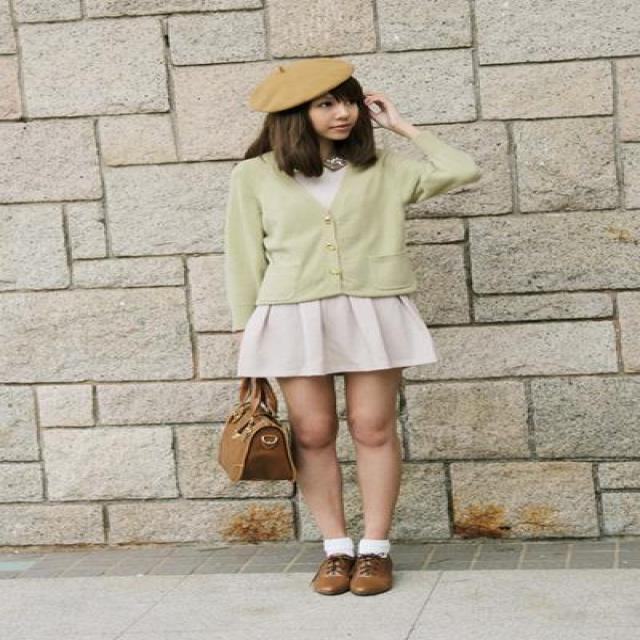bag: (206, 378, 304, 498)
hat: (259, 57, 352, 113)
jacket: (219, 124, 464, 319)
shirt: (304, 151, 363, 205)
shoe: (311, 550, 394, 596)
skirt: (237, 296, 437, 381)
